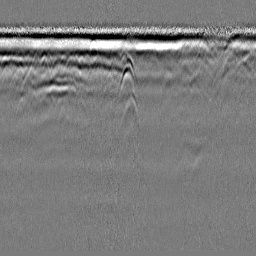cavity: (117, 56, 137, 100)
